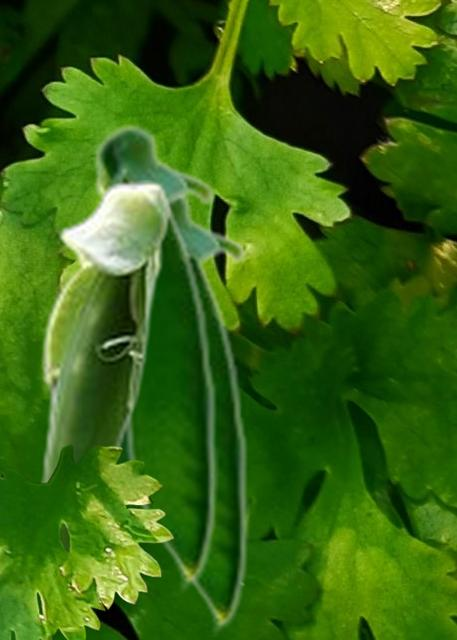pea: (91, 121, 217, 592), (38, 180, 172, 549), (169, 197, 248, 635)
